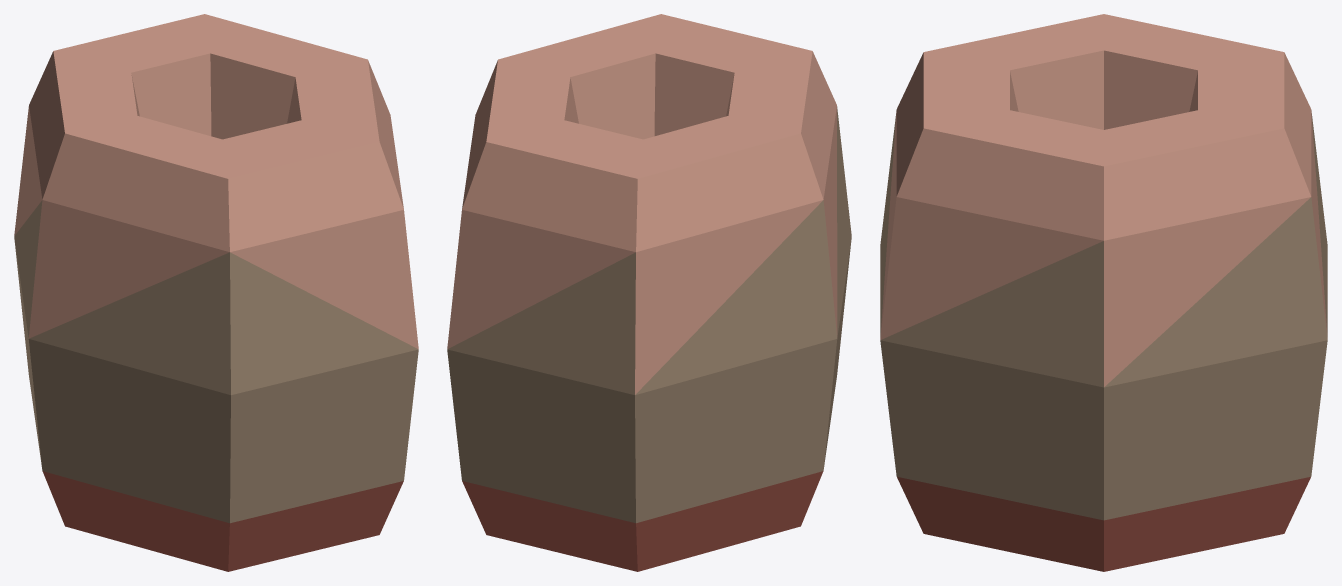
Rendered from donut.glb.
The picture shows the model from 3 angles, left to right: view 1: azimuth 30°, elevation 25°; view 2: azimuth 150°, elevation 25°; view 3: azimuth 270°, elevation 25°; orthographic projection. The views are drawn at different scales.
Size of the model in its own units: 1 by 1 by 1.
